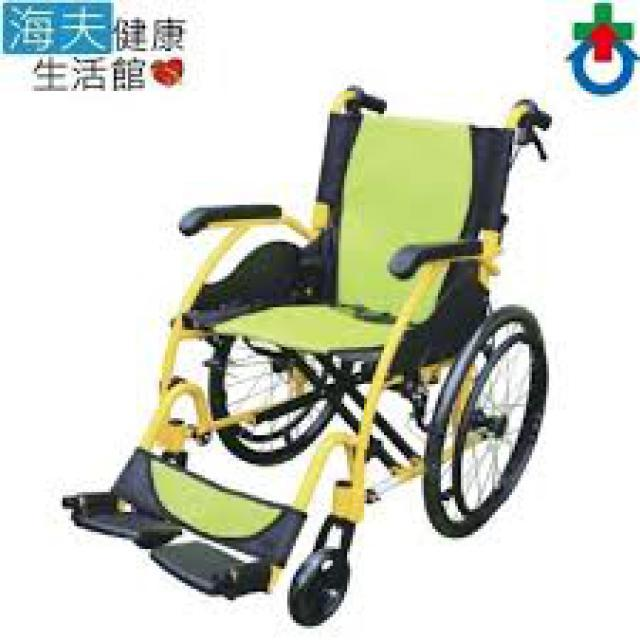wheelchair: (54, 80, 586, 638)
